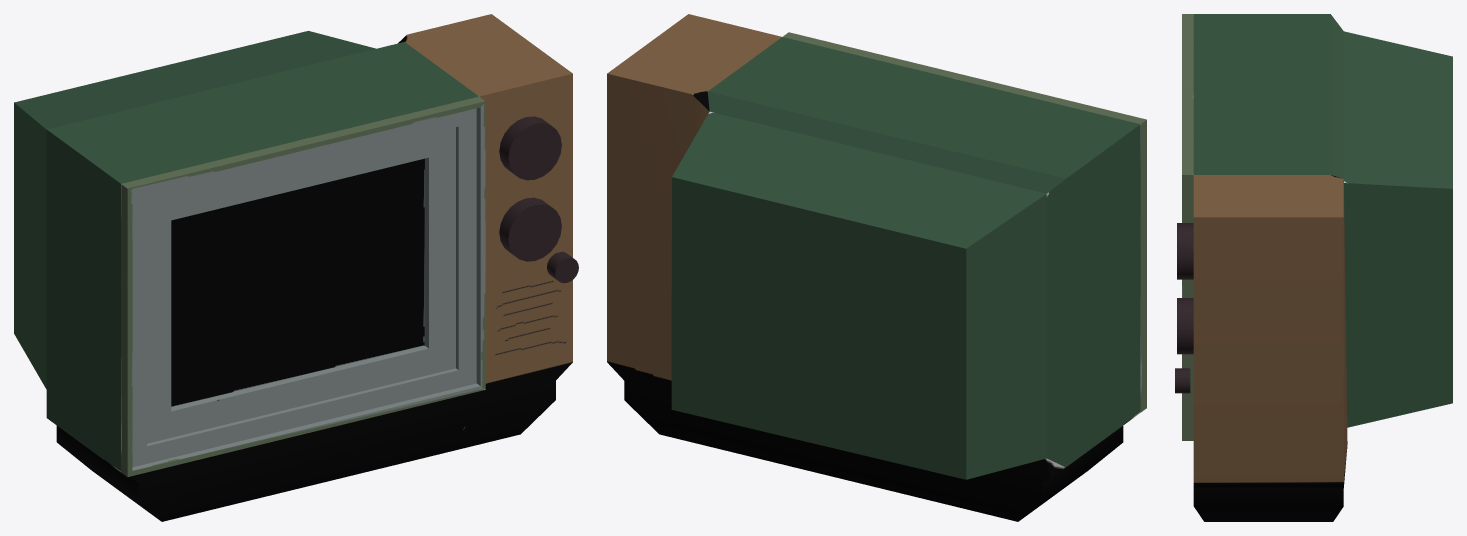
File: TextureOldTv.fbx
3 renders of one model, left to right at view 1: azimuth 30°, elevation 25°; view 2: azimuth 150°, elevation 25°; view 3: azimuth 270°, elevation 25°, orthographic. The views are drawn at different scales.
Parts seen in each view (by area): view 1: OldTv; view 2: OldTv; view 3: OldTv.
Part boxes in pixels (bbox=[...]): OldTv: bbox=[14, 14, 578, 521]; OldTv: bbox=[607, 14, 1146, 521]; OldTv: bbox=[1175, 14, 1452, 521].
Bounding box in the file's own units: 24657 × 18435 × 14243.
